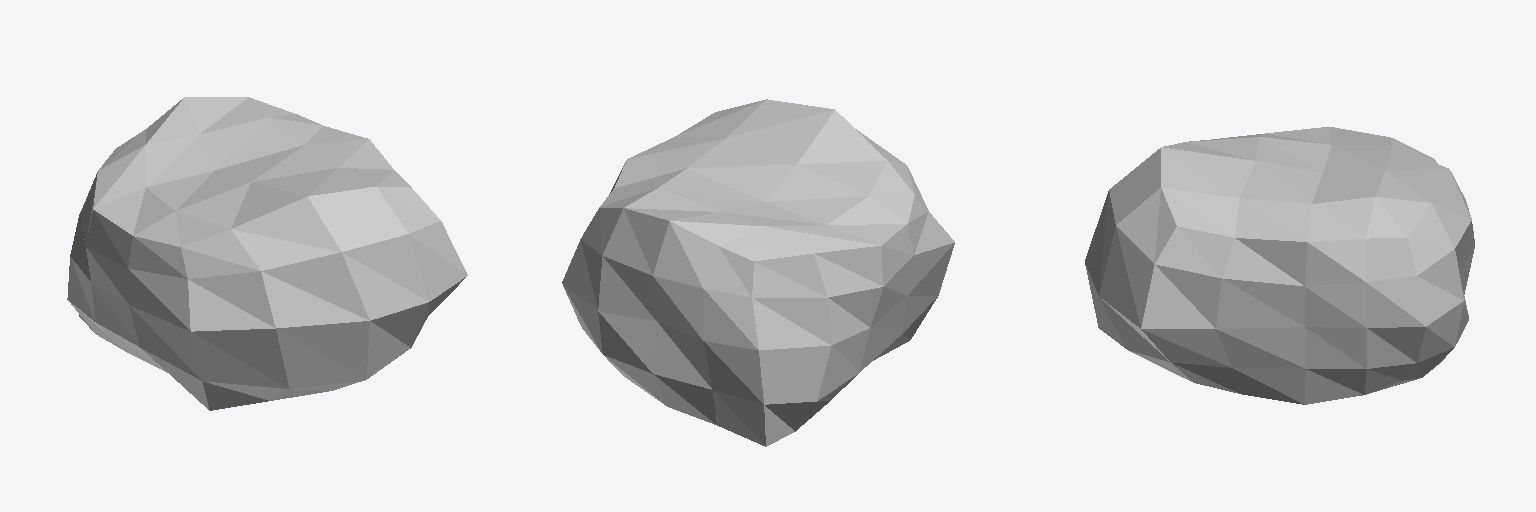
File: roks.obj
The picture shows the model from 3 angles: view 1: azimuth 30°, elevation 25°; view 2: azimuth 150°, elevation 25°; view 3: azimuth 270°, elevation 25°; orthographic projection.
Visible parts, largest first — view 1: Cube; view 2: Cube; view 3: Cube.
Boxes of the visible parts, box(x1,y1,x2,y2) form: Cube: box(67, 97, 467, 410); Cube: box(562, 99, 954, 446); Cube: box(1085, 127, 1474, 404).
Size of the model in its own units: 2.69 by 1.89 by 3.18.